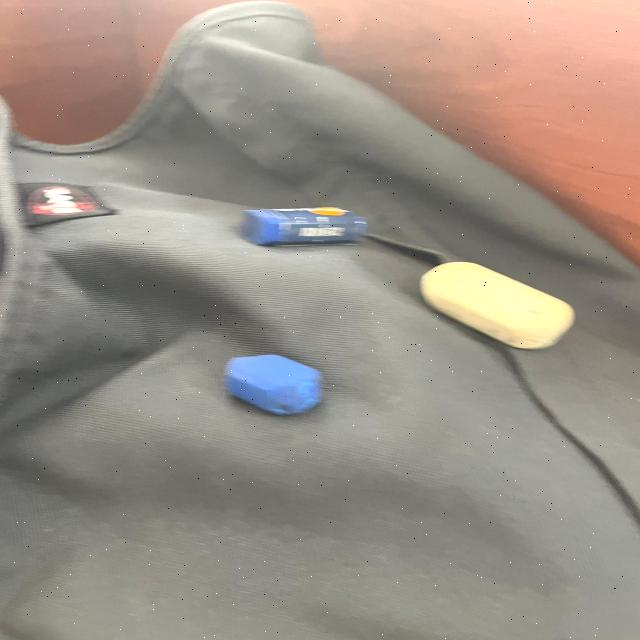eraser: (415, 252, 584, 358), (212, 343, 336, 423), (235, 195, 384, 257)
